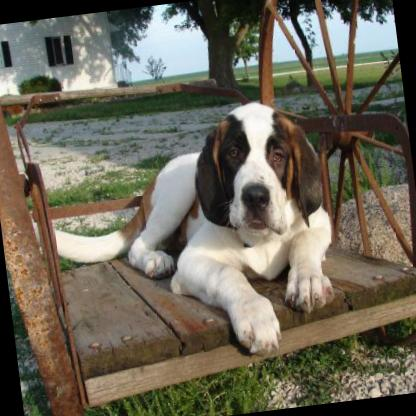Saint_Bernard: (20, 91, 347, 385)
